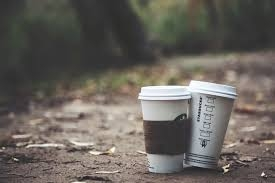paper: (132, 79, 191, 178), (186, 75, 241, 173)
